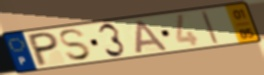3: (96, 22, 129, 59)
4: (175, 12, 201, 48)
A: (134, 19, 171, 55)
I: (199, 9, 221, 46)
P: (28, 30, 60, 69)
S: (57, 27, 94, 62)
